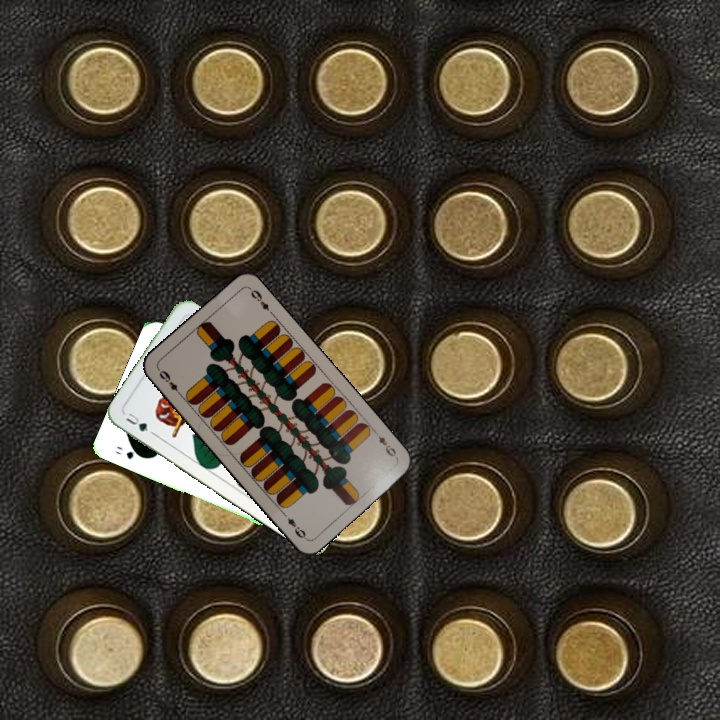E9: (154, 365, 185, 399), (370, 427, 399, 461)
GO: (111, 442, 147, 462)
GU: (122, 409, 151, 434)
